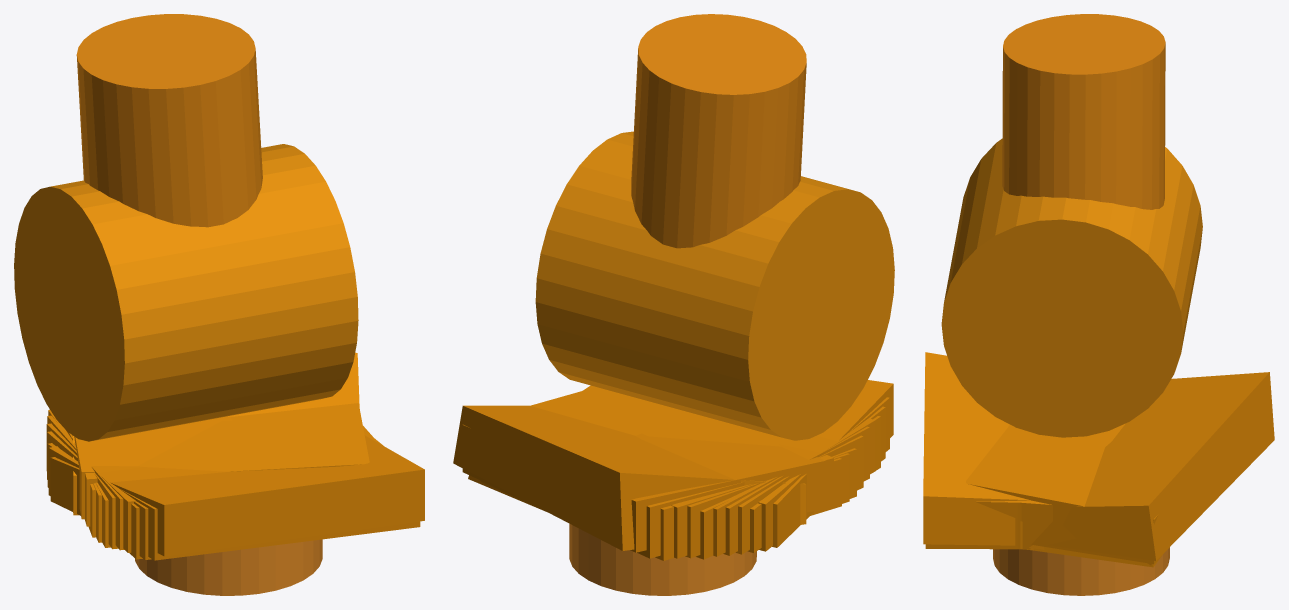
Rendered from Hinge join .gltf.
The picture shows the model from 3 angles, left to right: view 1: azimuth 30°, elevation 25°; view 2: azimuth 150°, elevation 25°; view 3: azimuth 270°, elevation 25°; orthographic projection. The views are drawn at different scales.
Visible parts, largest first — view 1: Cylinder.001, Cube, Cylinder; view 2: Cylinder.001, Cube, Cylinder; view 3: Cylinder.001, Cube, Cylinder.
Boxes of the visible parts, x1,y1,x2,y2 form: Cylinder.001: (14, 14, 358, 441); Cube: (46, 352, 424, 560); Cylinder: (135, 539, 322, 595); Cylinder.001: (535, 14, 894, 440); Cube: (453, 380, 893, 560); Cylinder: (569, 523, 756, 595); Cylinder.001: (941, 14, 1202, 437); Cube: (923, 352, 1274, 567); Cylinder: (993, 547, 1169, 595).
Bounding box in the file's own units: 4.15 × 6.12 × 3.98.
